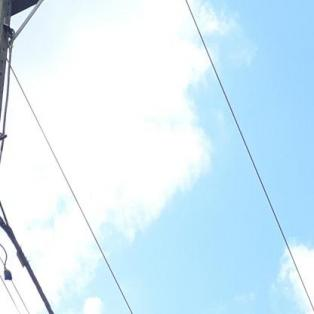Poste: (0, 0, 18, 314)
